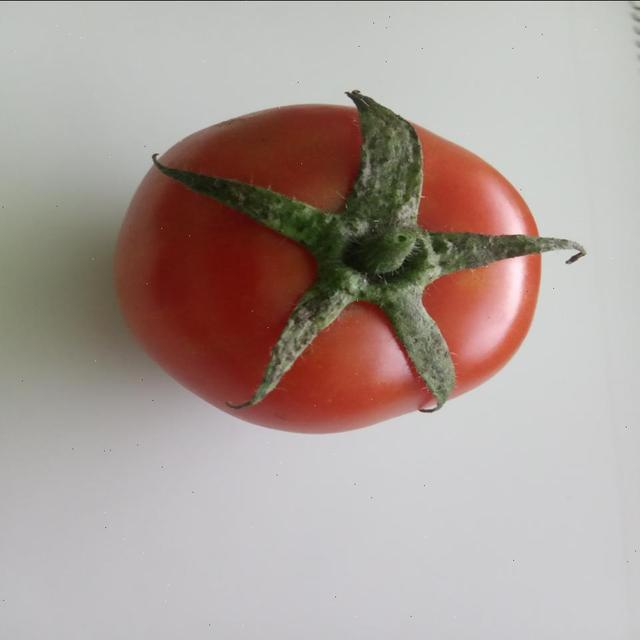Healthy Fruit: (73, 58, 392, 291)
